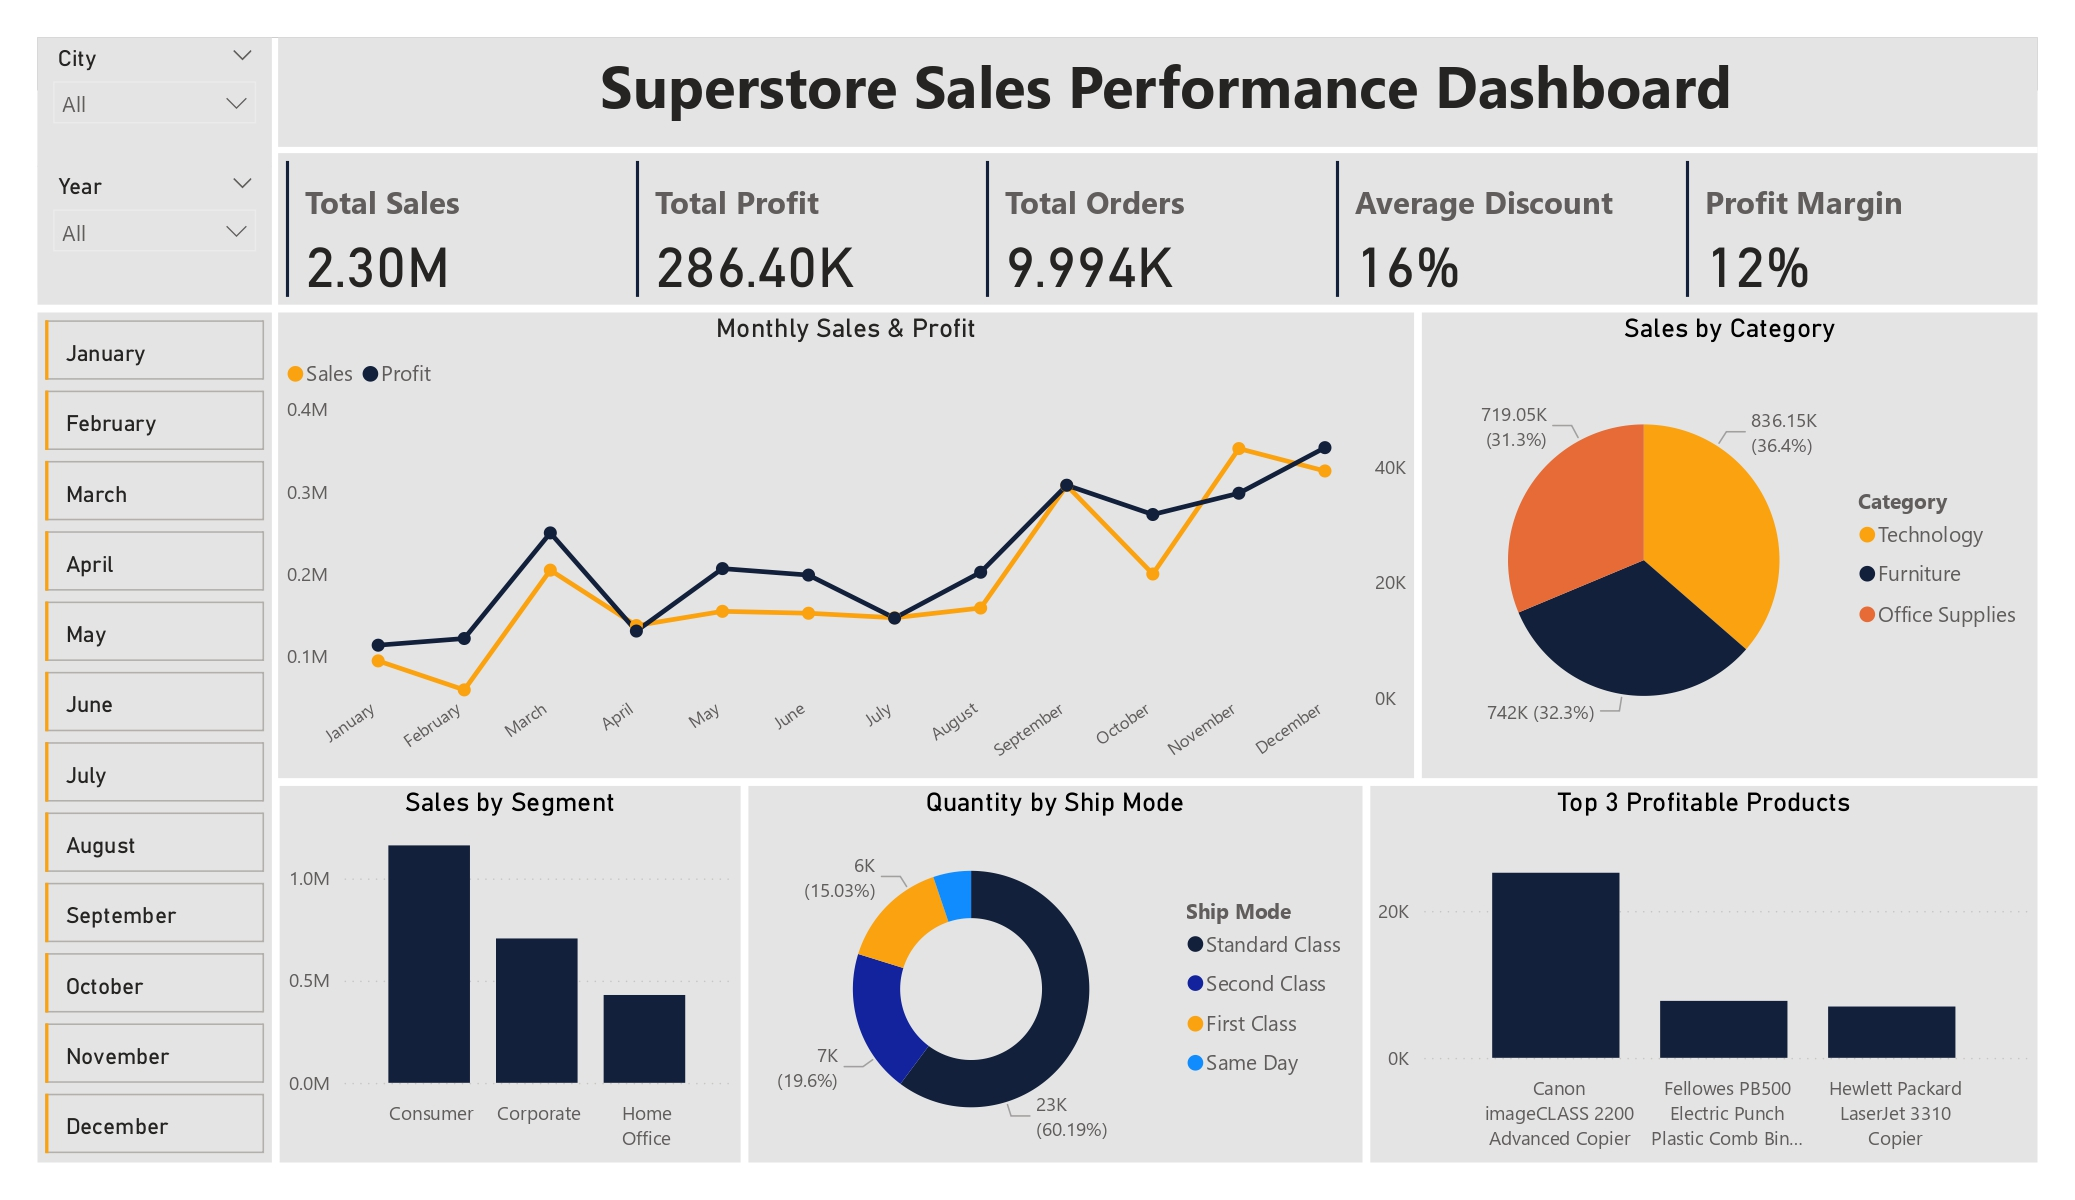

What the dashboard file says about the page in this screenshot:
{"tool":"powerbi","page":{"name":"Page 1","canvas":[1280,720],"ordinal":0},"visuals":[{"type":"cardVisual","fields":{"Data":["Sum(Superstore_Sales_Cleaned.Sales)","Sum(Superstore_Sales_Cleaned.Profit)","CountNonNull(Superstore_Sales_Cleaned.Order ID)","Superstore_Sales_Cleaned.Average Discount","Superstore_Sales_Cleaned.Profit Margin"]},"box":[154.2,73.6,1125.7,97.5],"z":0},{"type":"lineChart","title":"Monthly Sales & Profit","fields":{"Category":["Superstore_Sales_Cleaned.Order Date.Variation.Date Hierarchy.Month","Superstore_Sales_Cleaned.Order Date.Variation.Date Hierarchy.Day"],"Y":["Sum(Superstore_Sales_Cleaned.Sales)"],"Y2":["Sum(Superstore_Sales_Cleaned.Profit)"]},"box":[154.2,175.7,726.8,298.6],"z":1000},{"type":"pieChart","title":"Sales by Category","fields":{"Category":["Superstore_Sales_Cleaned.Category"],"Y":["Sum(Superstore_Sales_Cleaned.Sales)"]},"box":[885.6,175.7,394.4,298.6],"z":2000},{"type":"columnChart","title":"Sales by Segment","fields":{"Y":["Sum(Superstore_Sales_Cleaned.Sales)"],"Category":["Superstore_Sales_Cleaned.Segment"]},"box":[154.5,479.1,295.5,240.9],"z":3000},{"type":"donutChart","title":"Quantity by Ship Mode","fields":{"Category":["Superstore_Sales_Cleaned.Ship Mode"],"Y":["Sum(Superstore_Sales_Cleaned.Quantity)"]},"box":[455.2,479.1,392.6,240.9],"z":4000},{"type":"columnChart","title":"Top 3 Profitable Products","fields":{"Category":["Superstore_Sales_Cleaned.Product Name"],"Y":["Sum(Superstore_Sales_Cleaned.Profit)"]},"box":[853,479.1,427,240.9],"z":5000},{"type":"advancedSlicerVisual","fields":{"Values":["Superstore_Sales_Cleaned.Order Date.Variation.Date Hierarchy.Month"]},"box":[0,175.7,150,544.4],"z":6000},{"type":"slicer","fields":{"Values":["Superstore_Sales_Cleaned.City"]},"box":[0,0,150,82.5],"z":7000},{"type":"slicer","fields":{"Values":["Superstore_Sales_Cleaned.Order Date.Variation.Date Hierarchy.Year"]},"box":[0,82.4,150,88.7],"z":8000},{"type":"textbox","box":[154.2,0,1125.7,70.1],"z":9000}]}

Visuals, with their boxes in screenshot pixels (x1, y1, x2, y2):
cardVisual - Sum(Superstore_Sales_Cleaned.Sales) x Sum(Superstore_Sales_Cleaned.Profit): <box>278,152,2037,305</box>
"Monthly Sales & Profit" lineChart: <box>278,312,1414,779</box>
"Sales by Category" pieChart: <box>1421,312,2038,779</box>
"Sales by Segment" columnChart: <box>279,786,741,1162</box>
"Quantity by Ship Mode" donutChart: <box>749,786,1362,1162</box>
"Top 3 Profitable Products" columnChart: <box>1370,786,2038,1162</box>
advancedSlicerVisual - Superstore_Sales_Cleaned.Order Date.Variation.Date Hierarchy.Month: <box>38,312,272,1162</box>
slicer - Superstore_Sales_Cleaned.City: <box>38,38,272,166</box>
slicer - Superstore_Sales_Cleaned.Order Date.Variation.Date Hierarchy.Year: <box>38,166,272,305</box>
textbox: <box>278,38,2037,147</box>
